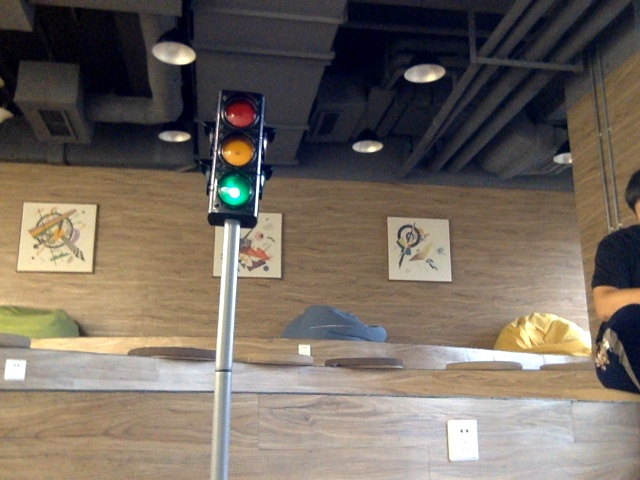green: (213, 97, 257, 213)
